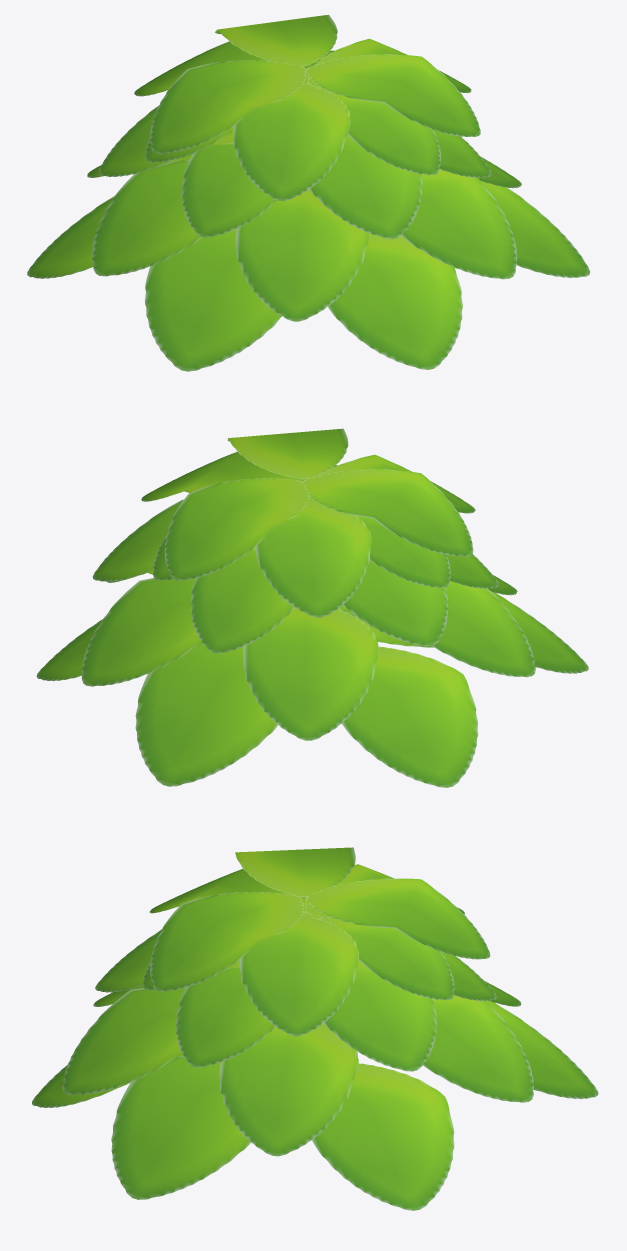
Rendered from plant_29.fbx.
3 views of the same model, one above another, from view 1: azimuth 30°, elevation 25°; view 2: azimuth 150°, elevation 25°; view 3: azimuth 270°, elevation 25° (orthographic). The views are drawn at different scales.
Parts seen in each view (by area): view 1: plant_29; view 2: plant_29; view 3: plant_29.
Boxes of the visible parts, left/top/right/bottom form: plant_29: left=27, top=14, right=589, bottom=371; plant_29: left=36, top=428, right=588, bottom=787; plant_29: left=32, top=847, right=598, bottom=1210.
Size of the model in its own units: 293 by 116 by 287.
